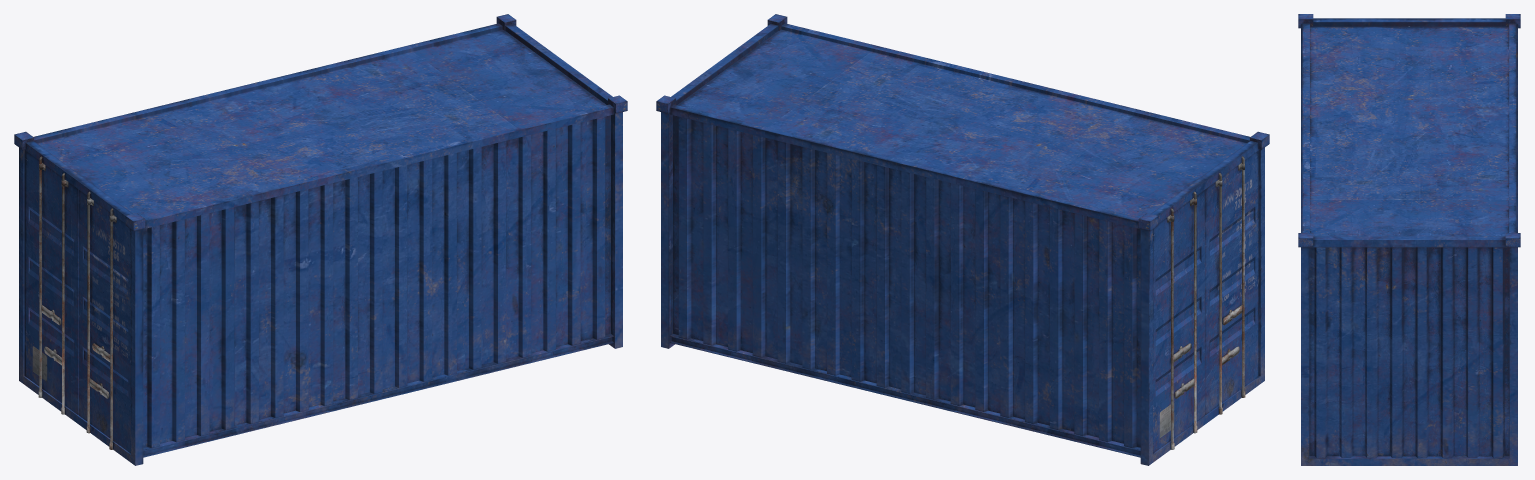
The model's file is container.fbx.
3 renders of one model, left to right at view 1: azimuth 30°, elevation 25°; view 2: azimuth 150°, elevation 25°; view 3: azimuth 270°, elevation 25°, orthographic. The views are drawn at different scales.
Parts seen in each view (by area): view 1: Cube.009; view 2: Cube.009; view 3: Cube.009.
Part boxes in pixels (<box>): Cube.009: <box>14,14,627,465</box>; Cube.009: <box>656,14,1269,465</box>; Cube.009: <box>1298,14,1520,465</box>.
Size of the model in its own units: 633 by 301 by 265.
